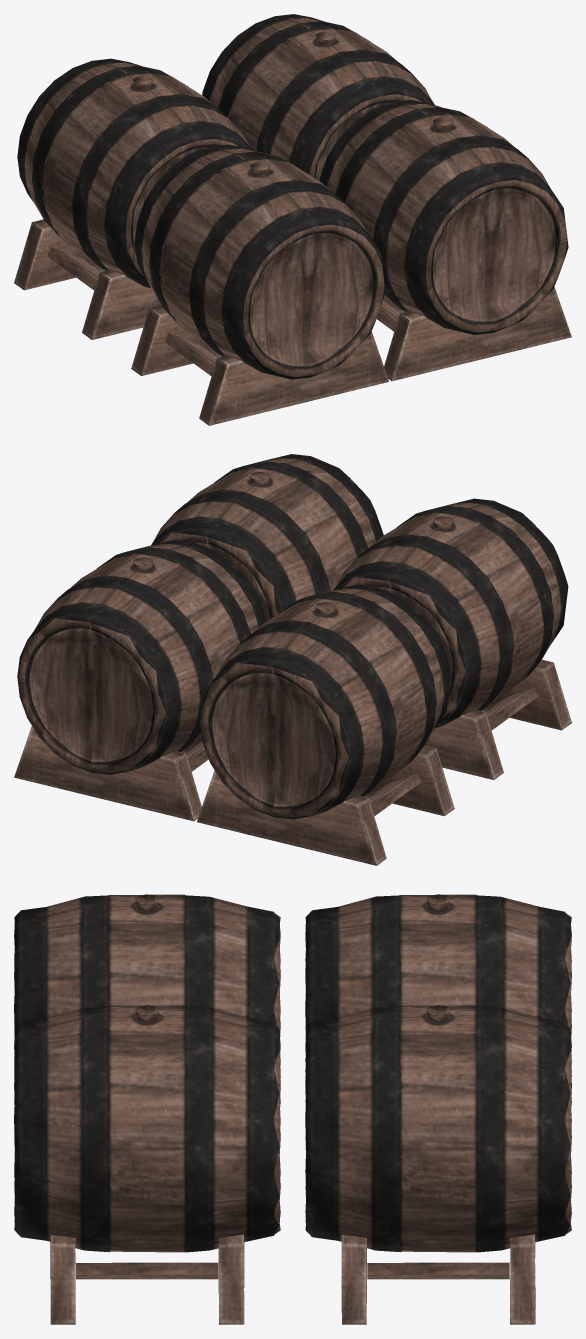
Rendered from PackBarrelDispenser.fbx.
3 renders of one model, top to bottom at view 1: azimuth 30°, elevation 25°; view 2: azimuth 150°, elevation 25°; view 3: azimuth 270°, elevation 25°, orthographic. The views are drawn at different scales.
Visible parts, largest first — view 1: Barrel.003; view 2: Barrel.003; view 3: Barrel.003.
Part boxes in pixels (bbox=[...]): Barrel.003: bbox=[14, 14, 571, 425]; Barrel.003: bbox=[14, 454, 571, 865]; Barrel.003: bbox=[14, 894, 571, 1324].
Bounding box in the file's own units: 0.4862 × 0.2677 × 0.5212.
